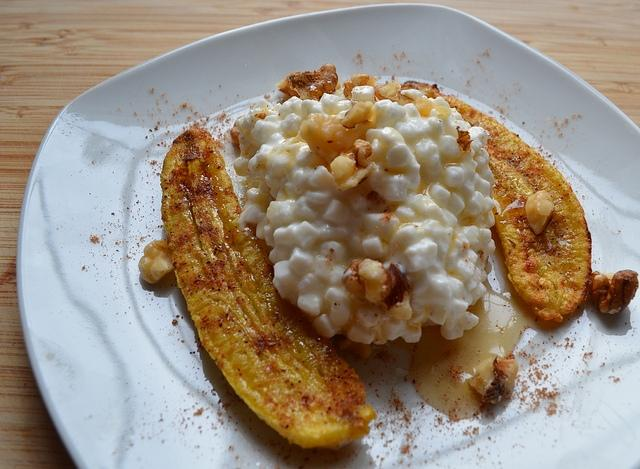banana: (160, 127, 375, 452), (401, 80, 592, 322)
